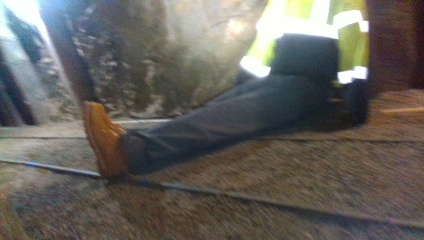manikin: (79, 2, 372, 180)
